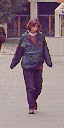person: (12, 21, 51, 112)
